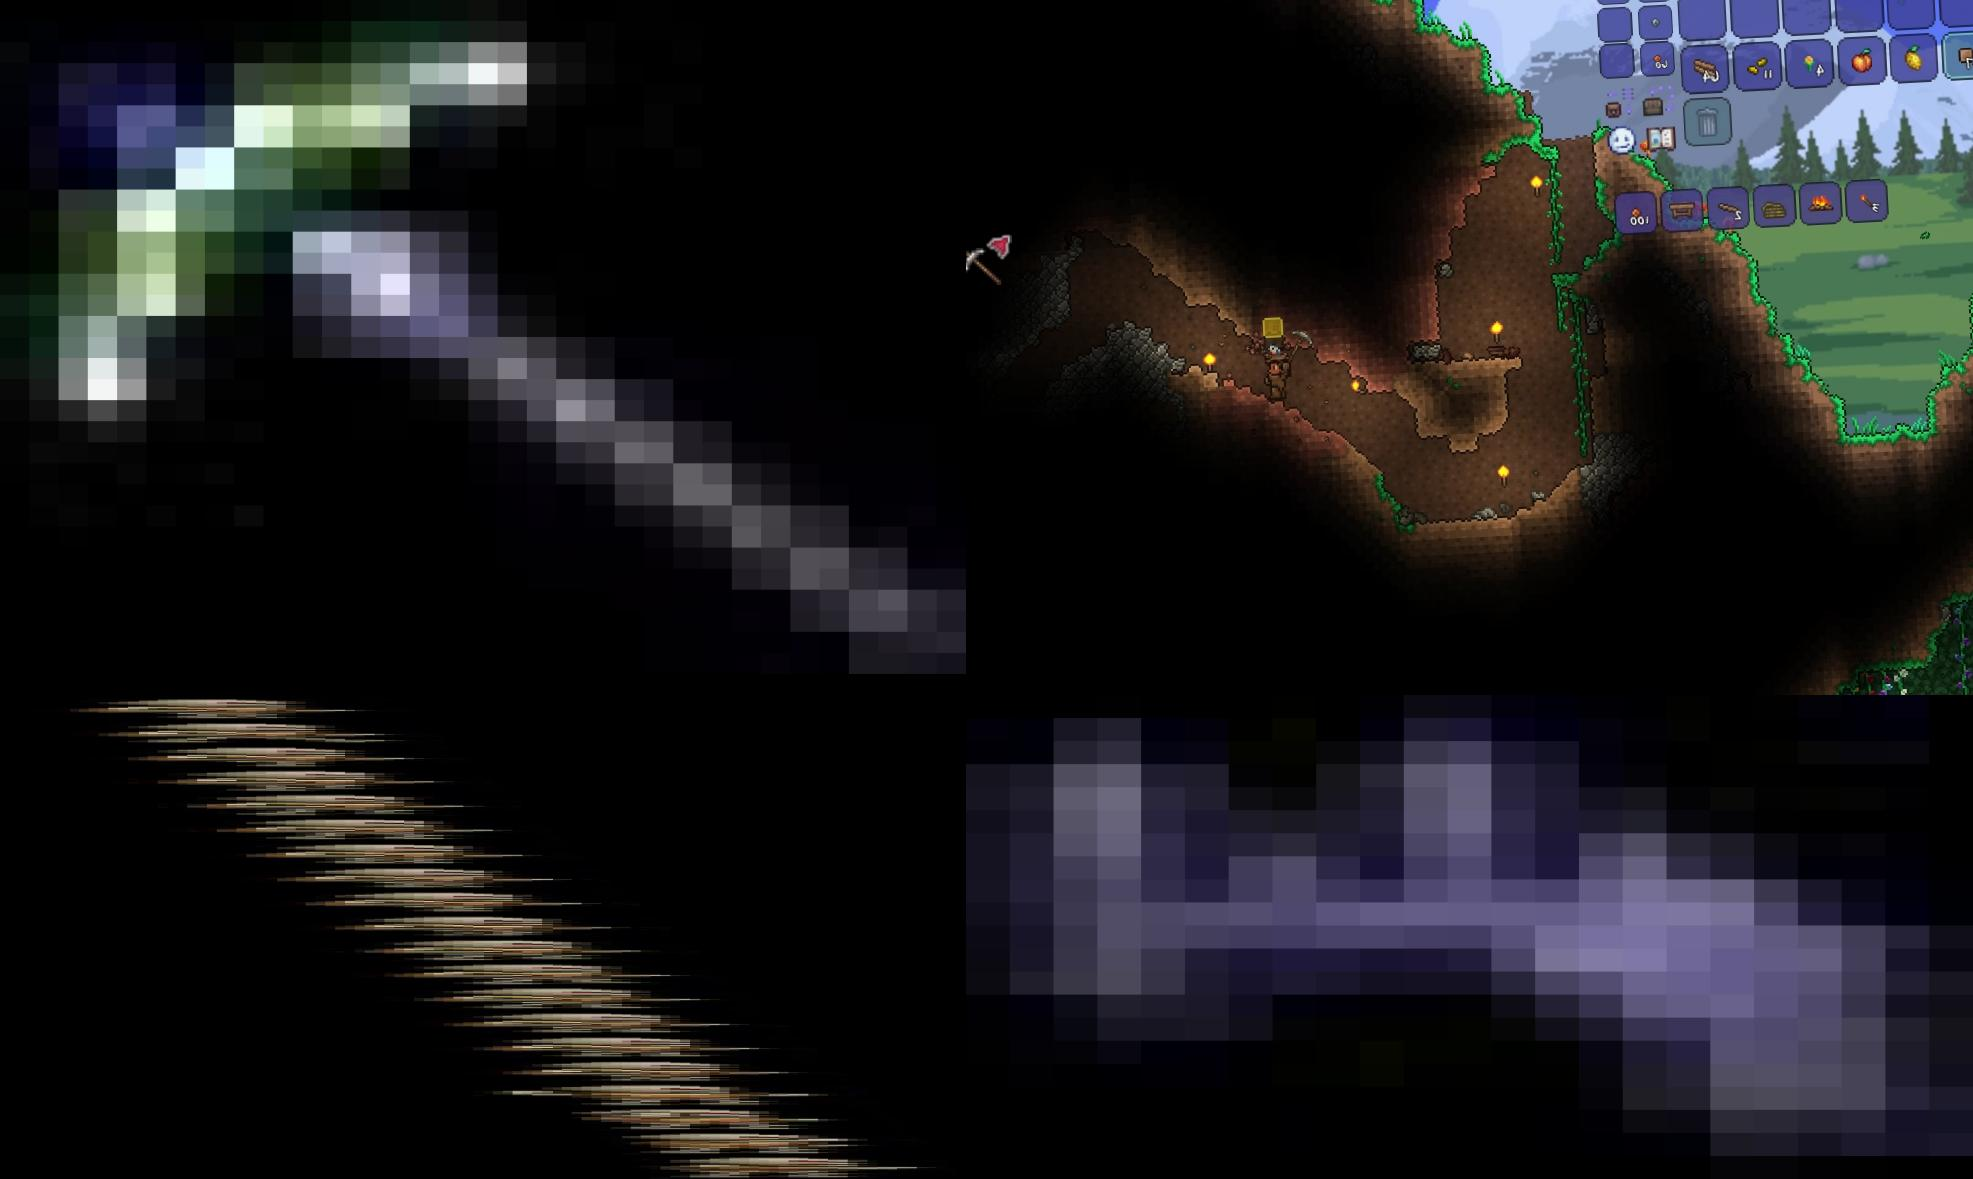helmet: (965, 695, 1973, 1179)
pickaxe: (0, 0, 965, 695)
zombie: (0, 696, 424, 721)
